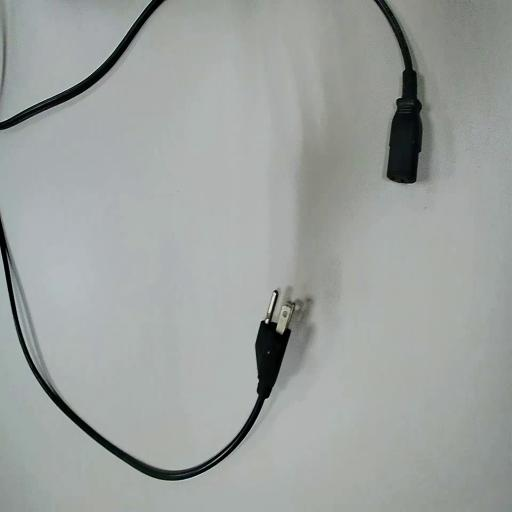wire: (375, 0, 421, 182)
